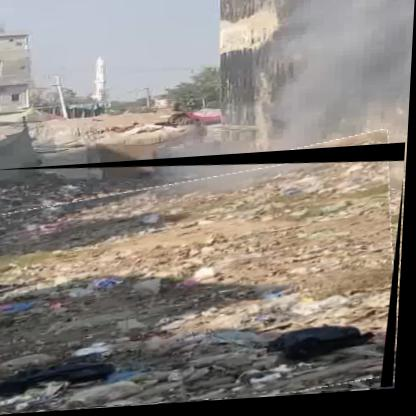Garbage: (1, 149, 409, 416)
